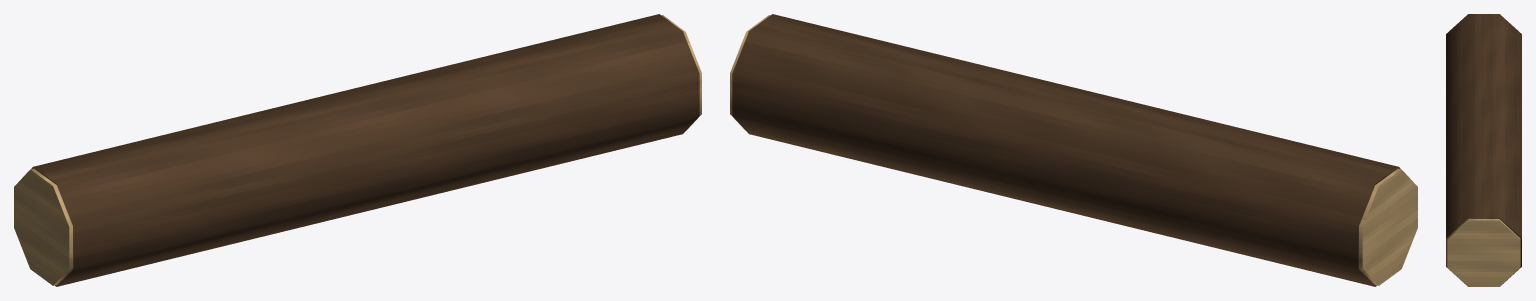
Rendered from tora_pequena.glb.
3 renders of one model, left to right at view 1: azimuth 30°, elevation 25°; view 2: azimuth 150°, elevation 25°; view 3: azimuth 270°, elevation 25°, orthographic. The views are drawn at different scales.
Visible parts, largest first — view 1: Inteiro; view 2: Inteiro; view 3: Inteiro.
Boxes of the visible parts, <box> form: Inteiro: <box>14,14,701,286</box>; Inteiro: <box>730,14,1417,286</box>; Inteiro: <box>1446,14,1521,286</box>.
Bounding box in the file's own units: 2.02 × 0.3141 × 0.3141.
1 material, 1 textured.
